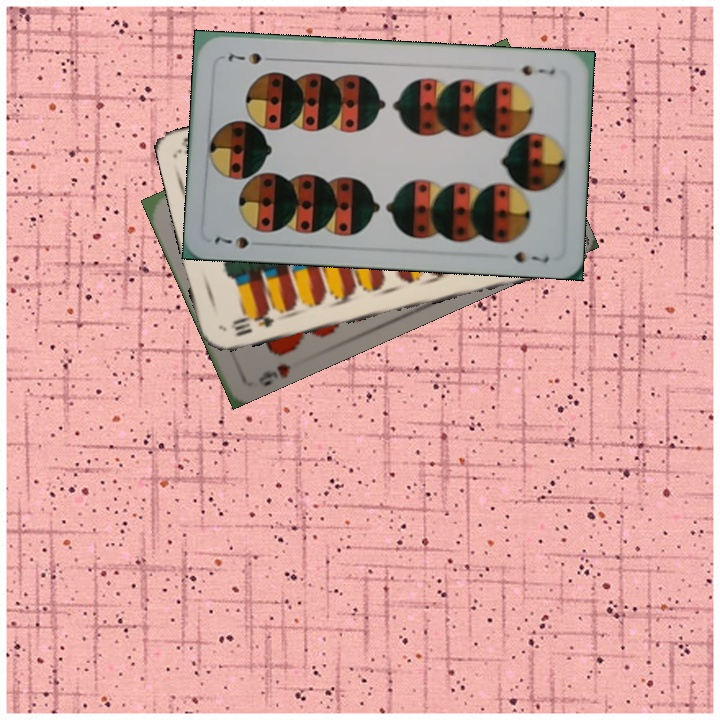E10: (226, 306, 277, 339)
H9: (254, 359, 293, 387)
S7: (210, 232, 251, 251), (518, 61, 558, 78)
